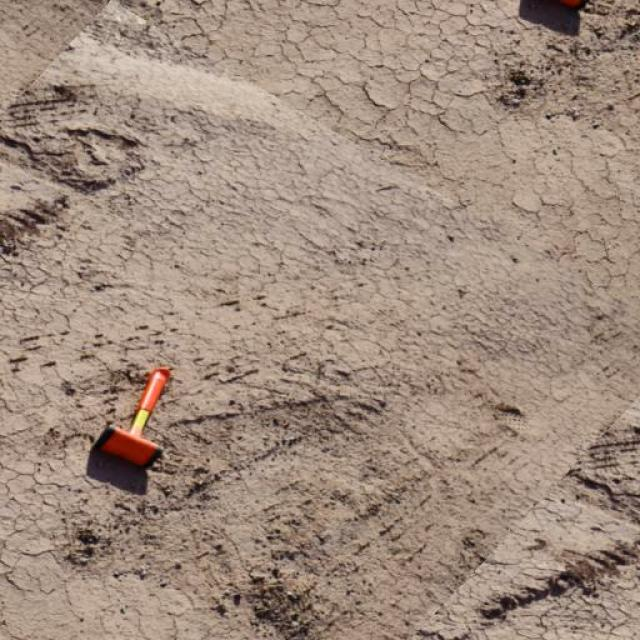mallet: (94, 365, 174, 467)
